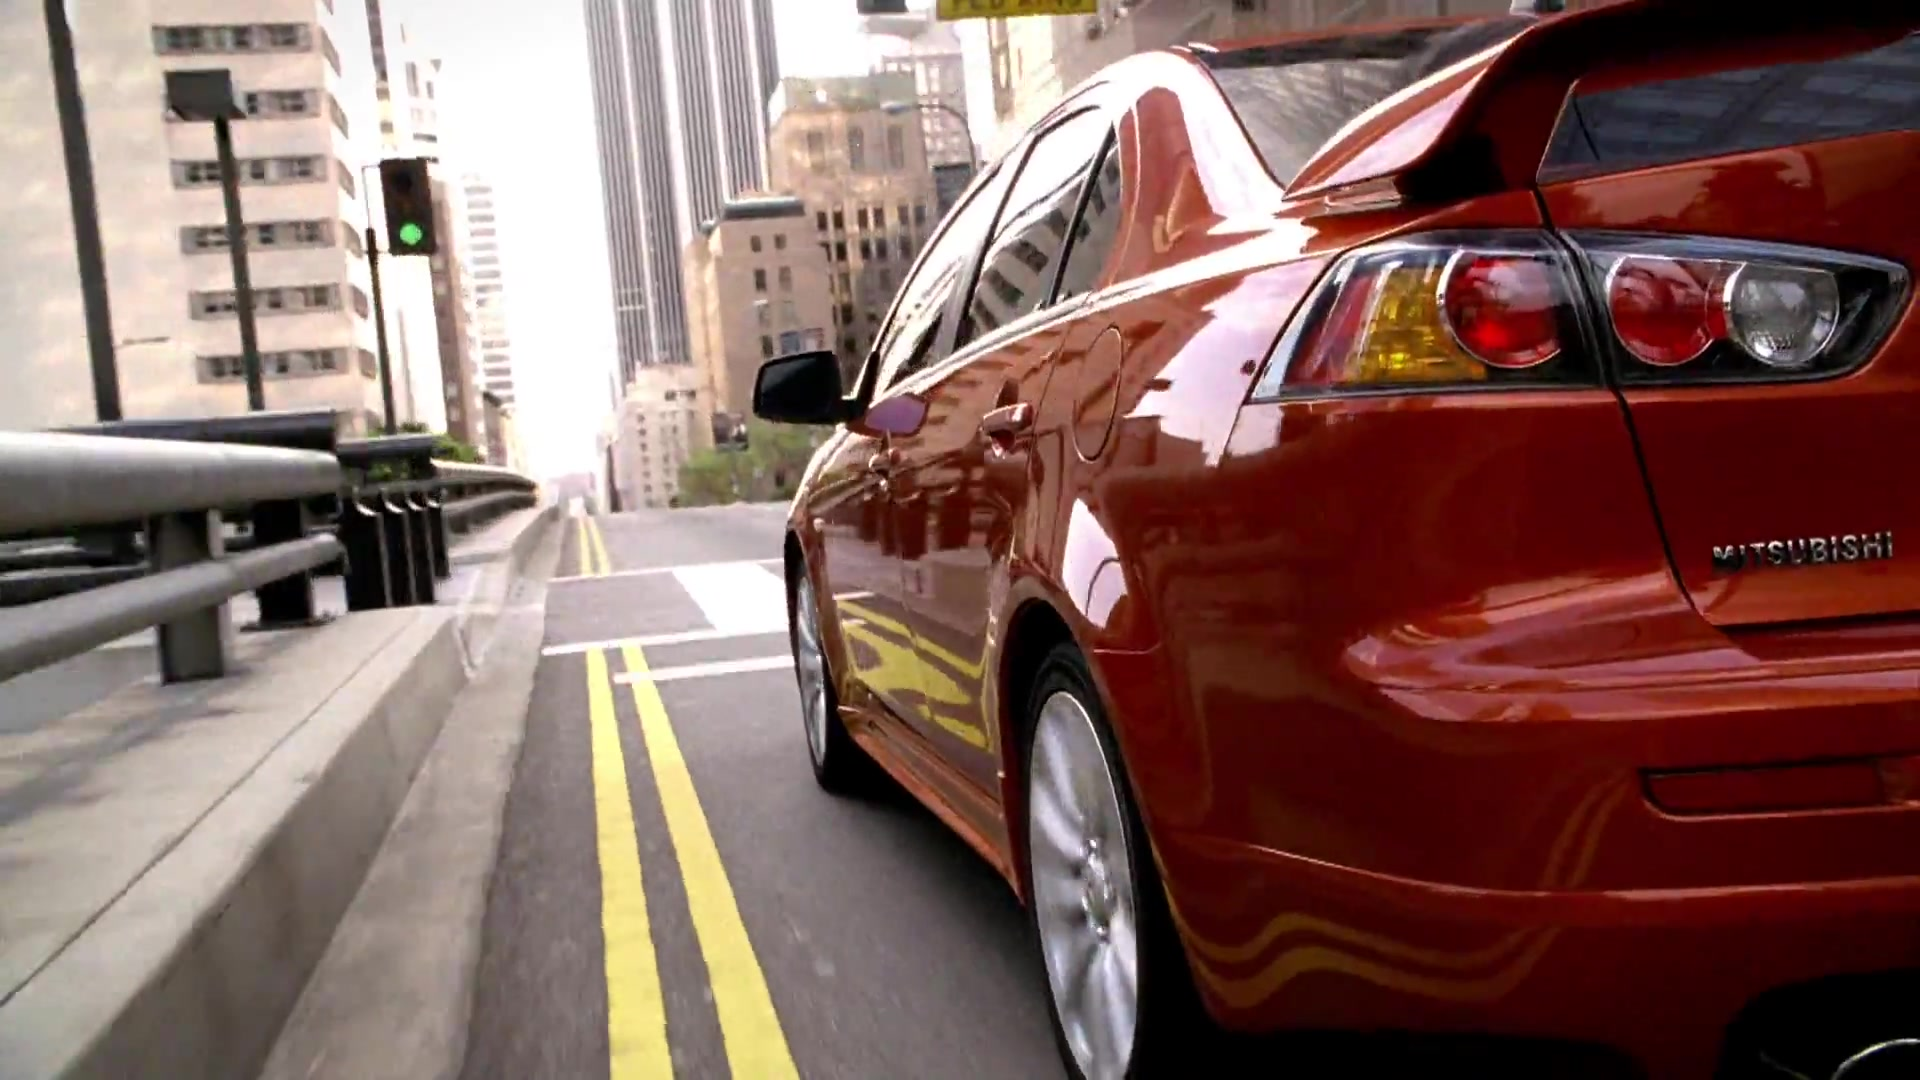car: (753, 5, 1917, 1080)
